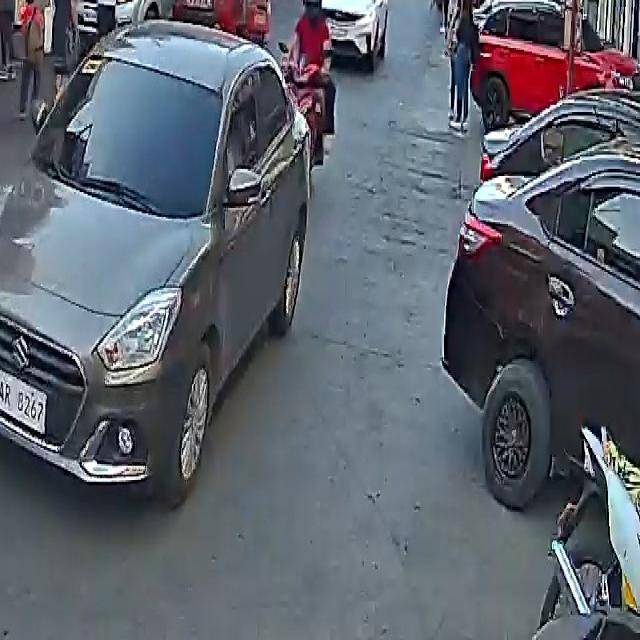car: (0, 16, 320, 494), (445, 94, 640, 521), (471, 0, 640, 128), (305, 0, 391, 60), (73, 0, 181, 36)
